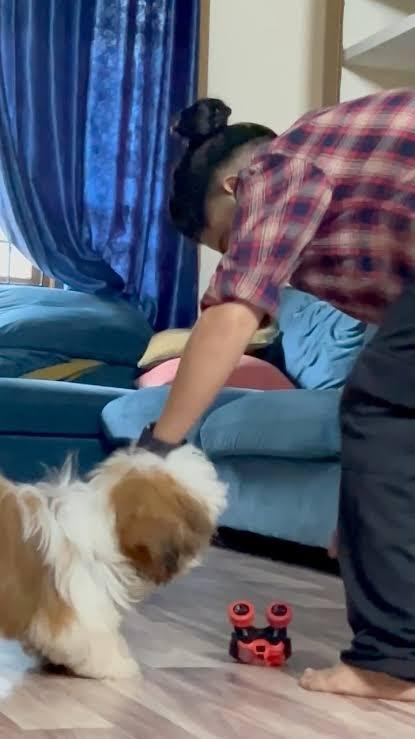adult_dog: (0, 438, 226, 683)
